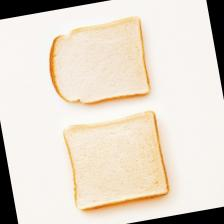bread: (61, 108, 171, 212), (42, 13, 154, 110)
